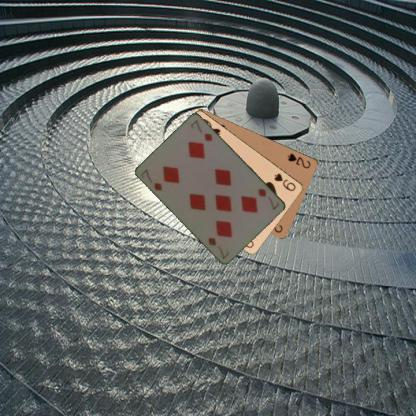2s: (285, 151, 312, 170)
7d: (138, 166, 164, 192), (256, 186, 281, 212)
9s: (272, 170, 298, 192)
